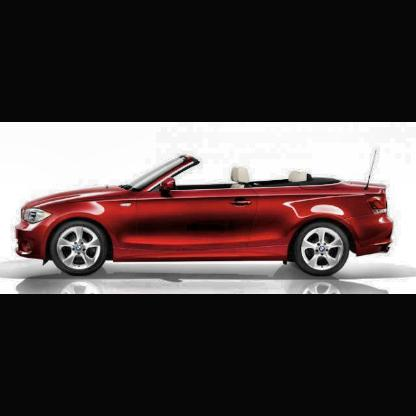BMW 1 Series Convertible 2012: (17, 152, 395, 279)
